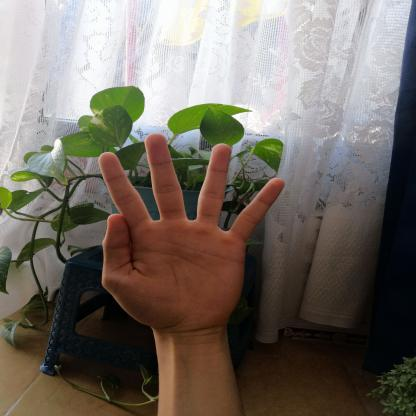SHEEN: (84, 122, 298, 342)
